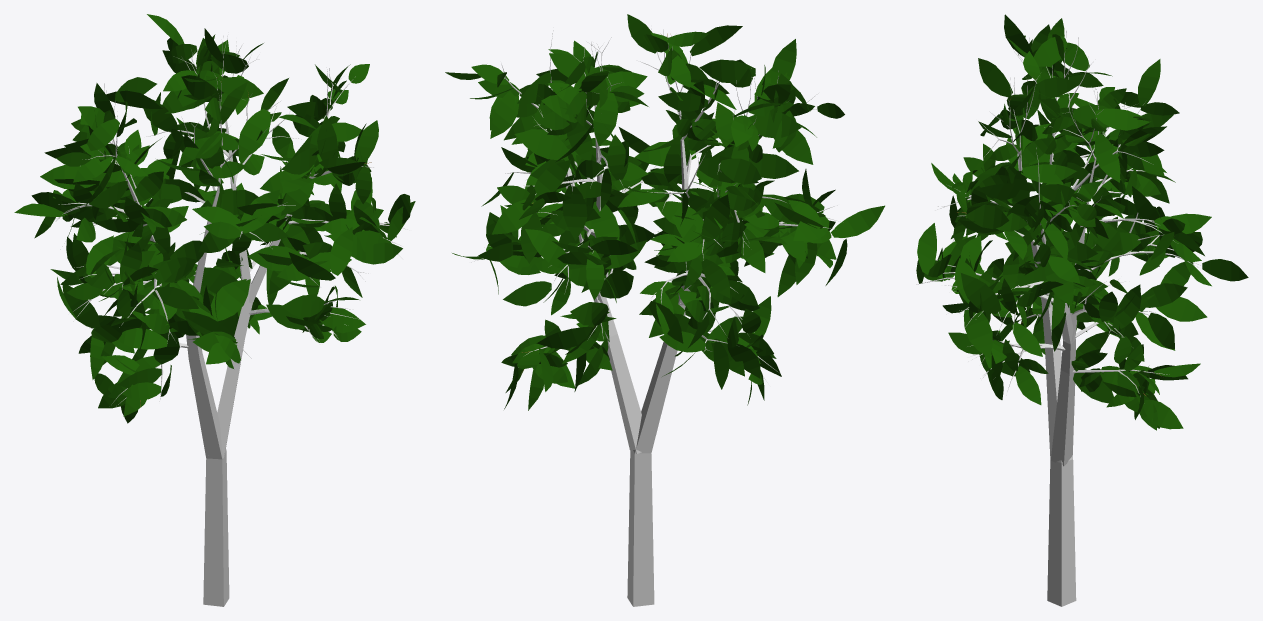
File: Tree 2.fbx
The picture shows the model from 3 angles, left to right: view 1: azimuth 30°, elevation 25°; view 2: azimuth 150°, elevation 25°; view 3: azimuth 270°, elevation 25°; orthographic projection. The views are drawn at different scales.
Visible parts, largest first — view 1: good tree 2 leaves, good tree 2; view 2: good tree 2 leaves, good tree 2; view 3: good tree 2 leaves, good tree 2.
Part boxes in pixels (bbox=[...]): good tree 2 leaves: bbox=[14, 14, 415, 423]; good tree 2: bbox=[56, 36, 409, 606]; good tree 2 leaves: bbox=[445, 14, 884, 410]; good tree 2: bbox=[471, 28, 844, 606]; good tree 2 leaves: bbox=[916, 14, 1248, 430]; good tree 2: bbox=[916, 31, 1200, 606].
Bounding box in the file's own units: 2066 × 3121 × 1774.
